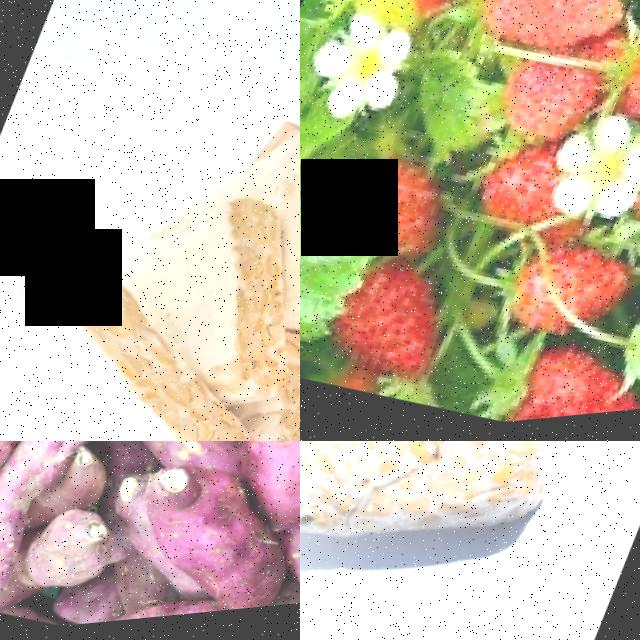strawberry: (333, 253, 475, 390), (458, 0, 640, 81), (490, 332, 640, 429), (490, 49, 615, 164), (594, 12, 640, 169)
sweet potato: (136, 456, 280, 587), (29, 499, 136, 607)
tempeh: (300, 441, 587, 608), (0, 255, 218, 441), (135, 177, 300, 334), (188, 300, 300, 417), (84, 379, 285, 441), (271, 98, 300, 246)
